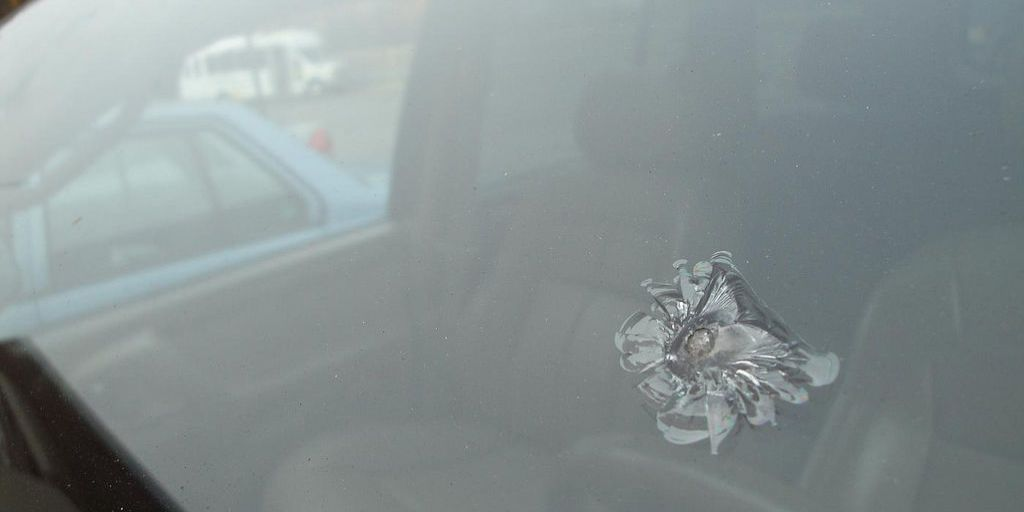bullseye: (575, 236, 869, 465)
